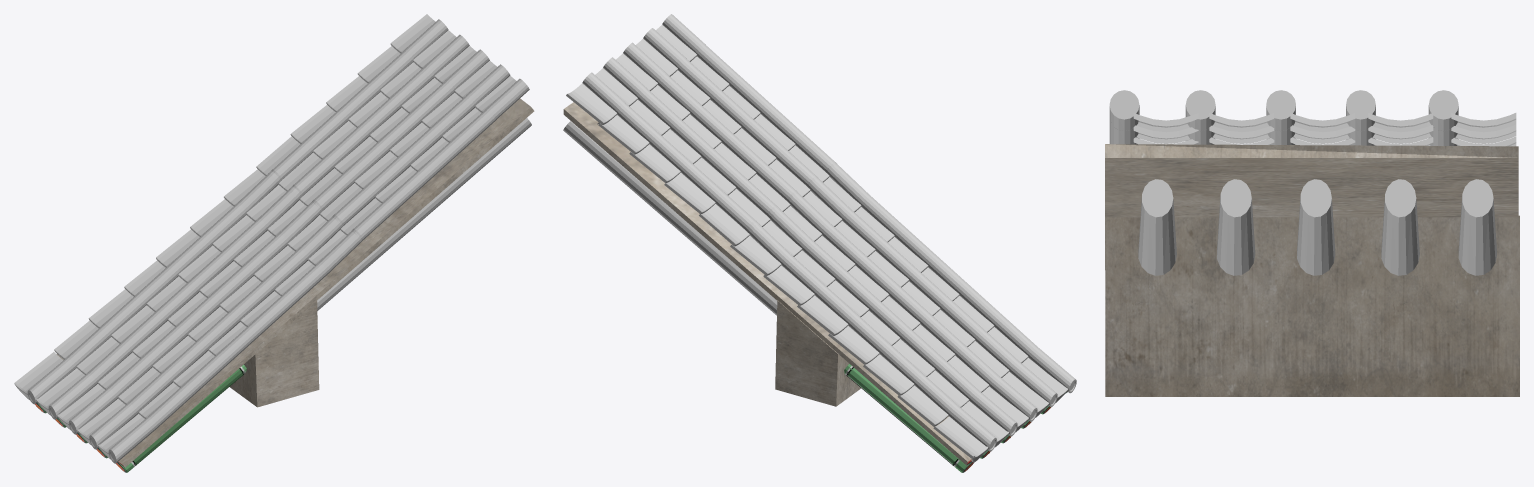
Rendered from SM_Roof_13.fbx.
3 views of the same model, side by side, from view 1: azimuth 30°, elevation 25°; view 2: azimuth 150°, elevation 25°; view 3: azimuth 270°, elevation 25° (orthographic). The views are drawn at different scales.
Parts seen in each view (by area): view 1: SM_Roof_13; view 2: SM_Roof_13; view 3: SM_Roof_13.
Boxes of the visible parts, x1,y1,x2,y2 form: SM_Roof_13: (14, 14, 534, 472); SM_Roof_13: (563, 14, 1076, 472); SM_Roof_13: (1105, 90, 1519, 396).
Size of the model in its own units: 495 by 211 by 336.
